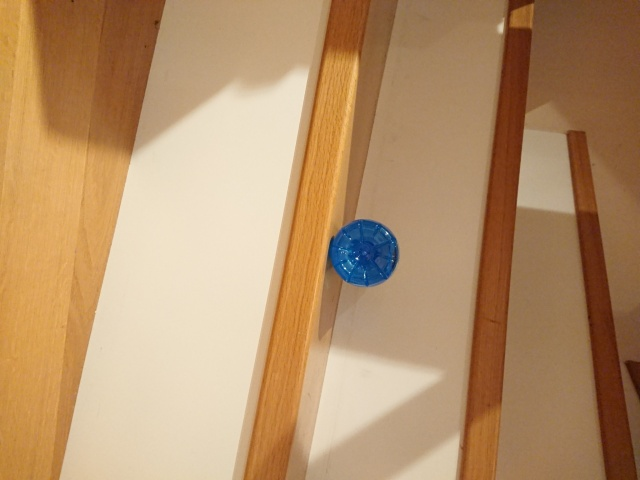Vindi Iso Sport Forest Strawberries 500mL: (327, 216, 401, 288)
